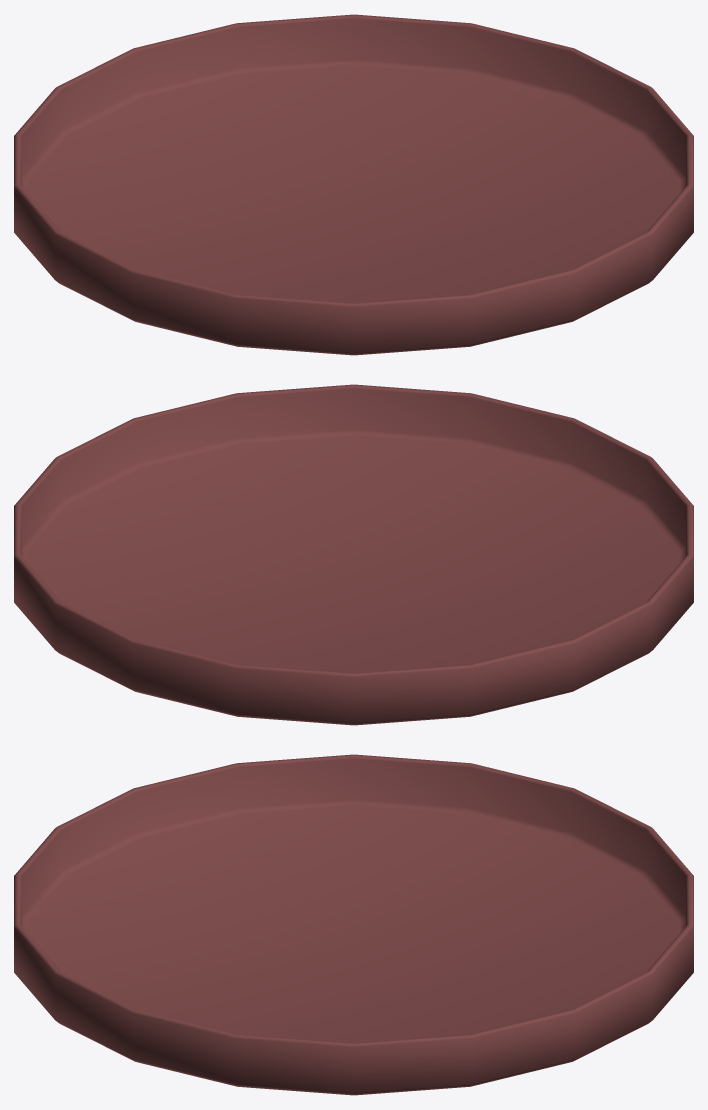
Rendered from PetriDish.fbx.
The picture shows the model from 3 angles, top to bottom: view 1: azimuth 30°, elevation 25°; view 2: azimuth 150°, elevation 25°; view 3: azimuth 270°, elevation 25°; orthographic projection.
Visible parts, largest first — view 1: PetriDish; view 2: PetriDish; view 3: PetriDish.
Boxes of the visible parts, box(x1,y1,x2,y2) form: PetriDish: box(14, 14, 693, 355); PetriDish: box(14, 384, 693, 725); PetriDish: box(14, 754, 693, 1095).
Size of the model in its own units: 18 by 17.73 by 1.5.
